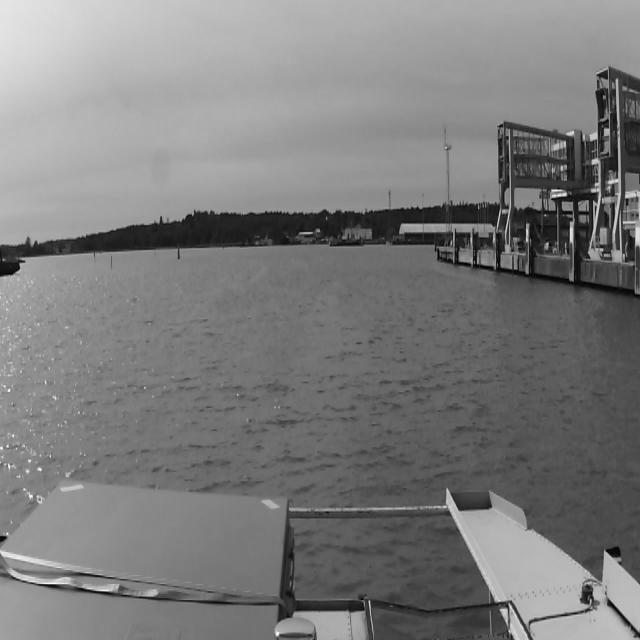buoy: (177, 244, 180, 260), (93, 247, 97, 258), (110, 255, 112, 269), (93, 250, 95, 258)
